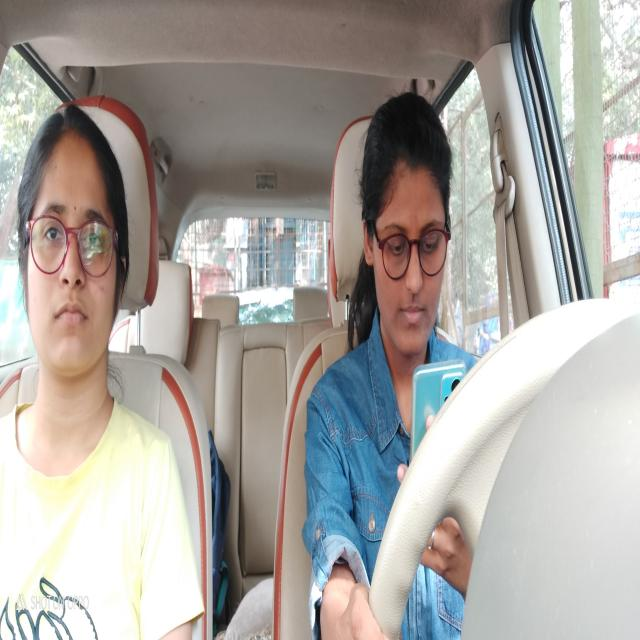mobile: (407, 359, 467, 462)
person: (14, 102, 128, 394), (361, 93, 452, 354)
